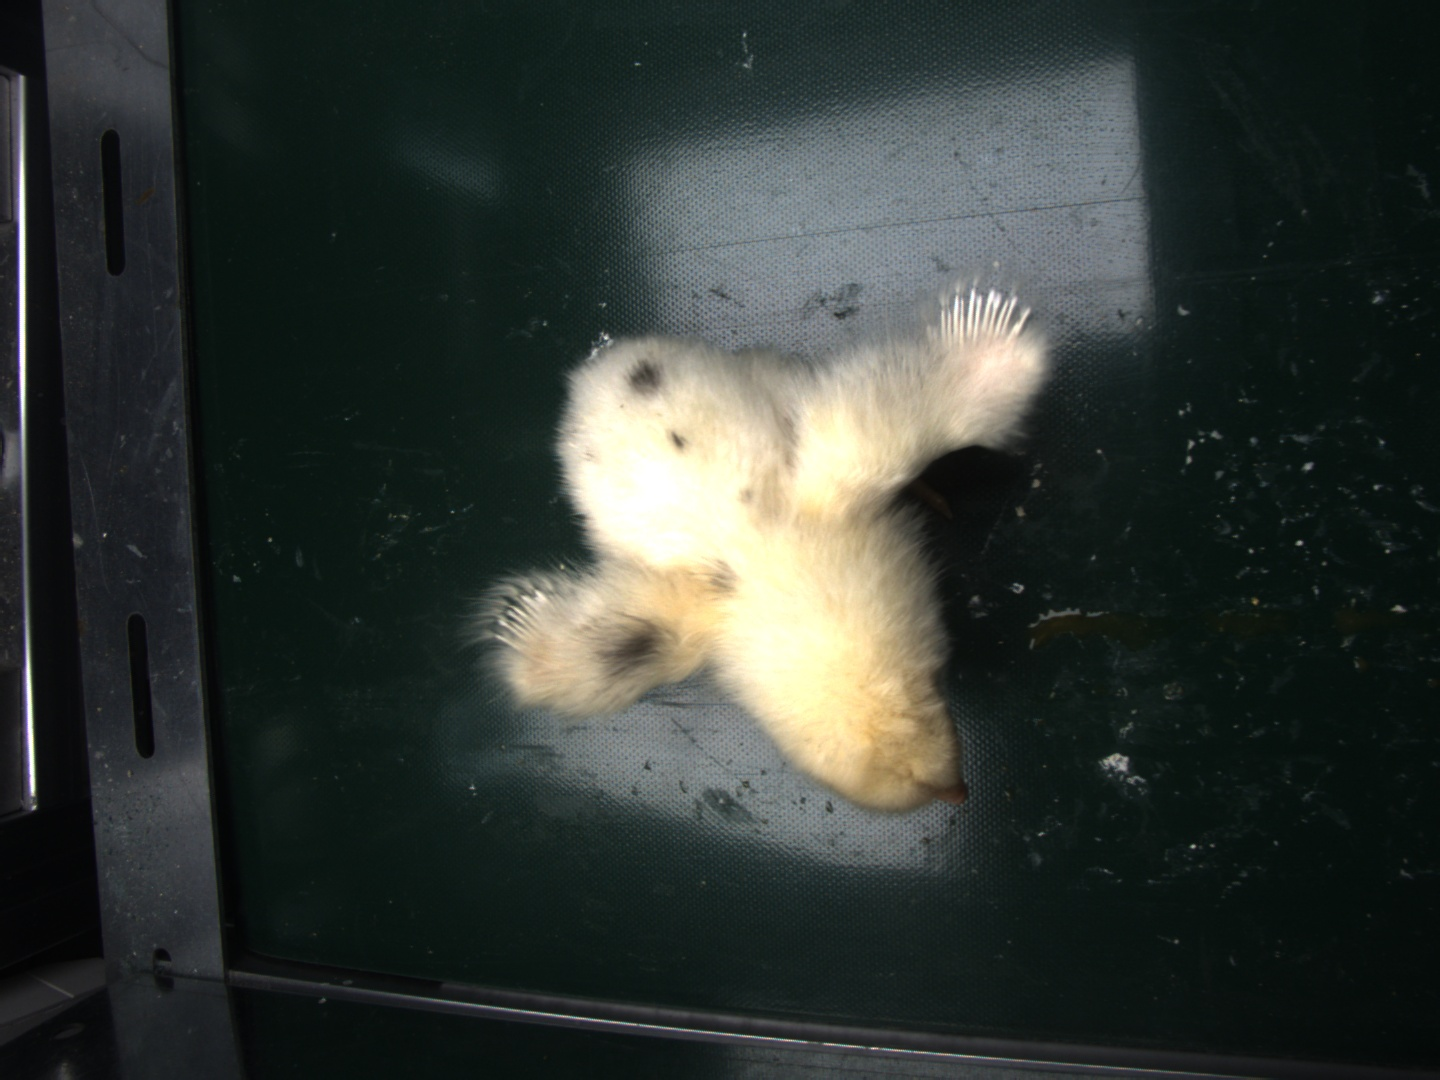male: (939, 285, 1031, 348), (498, 587, 556, 651)
